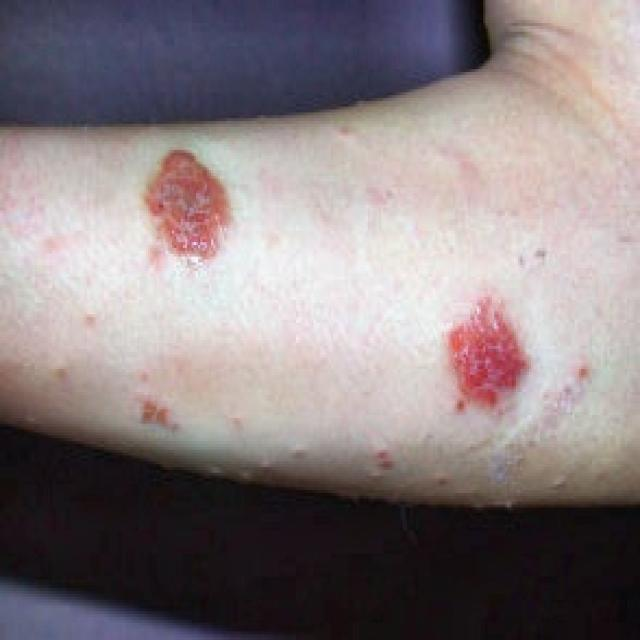Atopic-Dermatitis: (146, 152, 230, 257), (452, 298, 525, 402)
